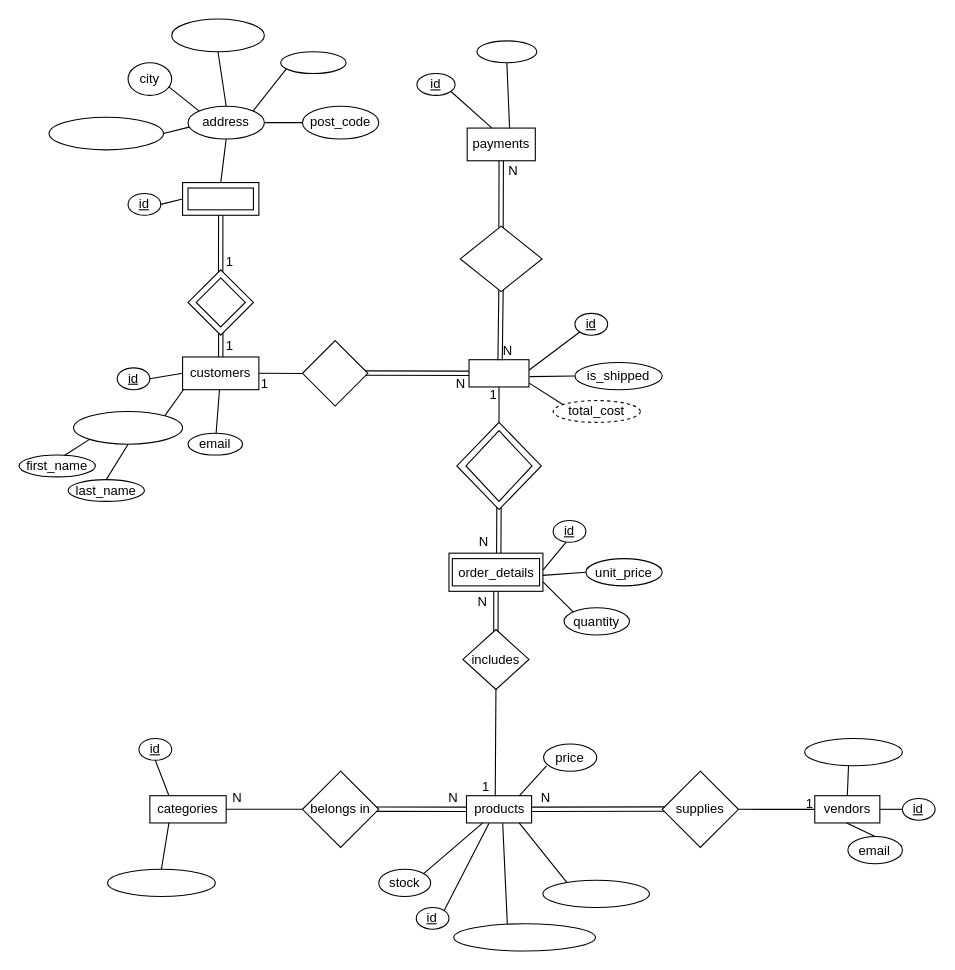
The diagram is 955 pixels wide and 970 high, and some of its shapes have lost their labels. The shapes that lost their labels are listed below. From the top down, each one's centre as x and y in pixels, then its label:
point (217, 35): state_district
point (506, 51): method
point (313, 62): country
point (106, 133): street_address
point (220, 198): shippings
point (500, 258): is paid by
point (220, 302): has
point (334, 373): places
point (498, 373): orders
point (127, 427): customer_name
point (498, 465): contains
point (853, 751): vendor_name
point (160, 882): category_name
point (595, 893): product_name
point (524, 937): product_description
